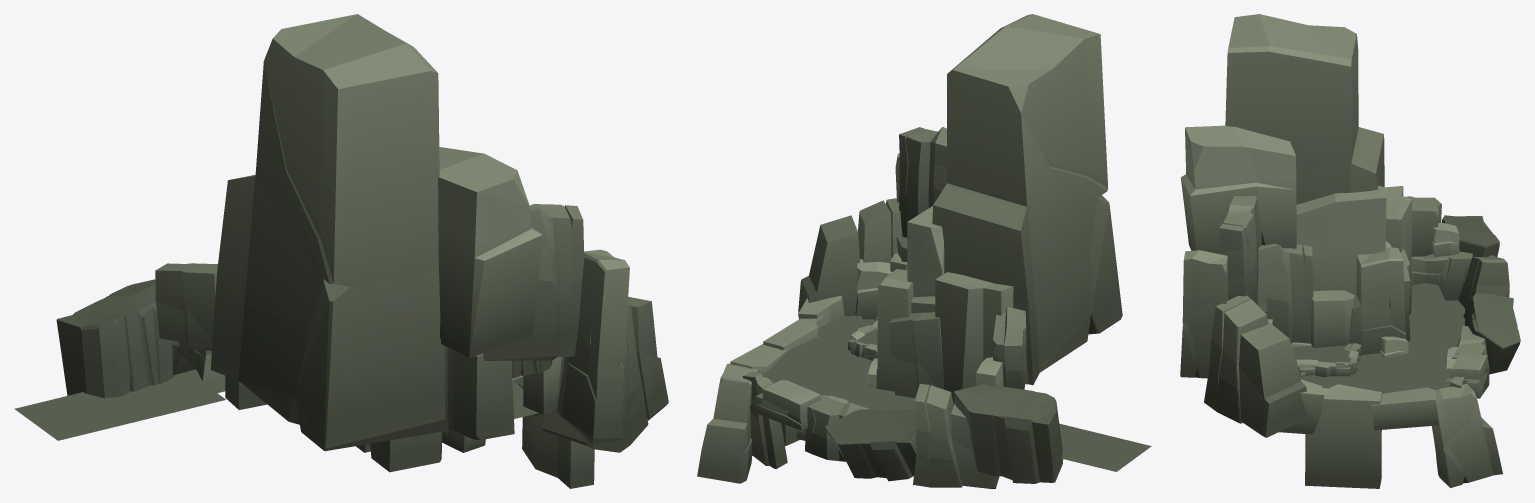
Rendered from Chapter1_1Stage.fbx.
The picture shows the model from 3 angles, left to right: view 1: azimuth 30°, elevation 25°; view 2: azimuth 150°, elevation 25°; view 3: azimuth 270°, elevation 25°; orthographic projection. The views are drawn at different scales.
Parts seen in each view (by area): view 1: StaticMeshActor_52, StaticMeshActor_30, StaticMeshActor_24, StaticMeshActor_33, StaticMeshActor_29, StaticMeshActor_21, StaticMeshActor_61, StaticMeshActor_31, StaticMeshActor_22, StaticMeshActor_32, StaticMeshActor_9, StaticMeshActor_121 (+2 smaller); view 2: StaticMeshActor_52, StaticMeshActor_24, StaticMeshActor_61, StaticMeshActor_42, StaticMeshActor_60, StaticMeshActor_72, StaticMeshActor_3, StaticMeshActor_6, StaticMeshActor_29, StaticMeshActor_23, StaticMeshActor_9, StaticMeshActor_7 (+11 smaller); view 3: StaticMeshActor_52, StaticMeshActor_30, StaticMeshActor_61, StaticMeshActor_9, StaticMeshActor_32, StaticMeshActor_6, StaticMeshActor_7, StaticMeshActor_33, StaticMeshActor_31, StaticMeshActor_3, StaticMeshActor_29, StaticMeshActor_72 (+15 smaller).
Part boxes in pixels (x1,y1,x2,y2): StaticMeshActor_52: (210,14,445,451); StaticMeshActor_30: (438,147,542,357); StaticMeshActor_24: (56,279,173,398); StaticMeshActor_33: (557,249,629,444); StaticMeshActor_29: (483,204,584,360); StaticMeshActor_21: (14,371,225,440); StaticMeshActor_61: (542,297,668,452); StaticMeshActor_31: (441,345,514,440); StaticMeshActor_22: (155,263,217,350); StaticMeshActor_32: (522,414,594,488); StaticMeshActor_9: (356,431,442,472); StaticMeshActor_121: (523,357,561,414); StaticMeshActor_52: (932,14,1122,385); StaticMeshActor_24: (953,384,1063,483); StaticMeshActor_61: (798,198,902,316); StaticMeshActor_42: (935,272,1013,404); StaticMeshActor_60: (913,383,999,488); StaticMeshActor_72: (824,409,916,481); StaticMeshActor_3: (761,314,875,401); StaticMeshActor_6: (697,363,758,483); StaticMeshActor_29: (899,126,946,237); StaticMeshActor_23: (889,312,943,398); StaticMeshActor_9: (907,206,944,313); StaticMeshActor_7: (876,269,913,391); StaticMeshActor_52: (1225,14,1384,204); StaticMeshActor_30: (1180,125,1296,253); StaticMeshActor_61: (1204,295,1308,437); StaticMeshActor_9: (1296,185,1391,294); StaticMeshActor_32: (1305,384,1381,488); StaticMeshActor_6: (1432,384,1502,487); StaticMeshActor_7: (1349,247,1406,354); StaticMeshActor_33: (1180,250,1227,378); StaticMeshActor_31: (1257,243,1313,343); StaticMeshActor_3: (1300,353,1452,393); StaticMeshActor_29: (1219,195,1258,304); StaticMeshActor_72: (1463,292,1520,374).
Bounding box in the file's own units: 7781 × 7267 × 6117.
